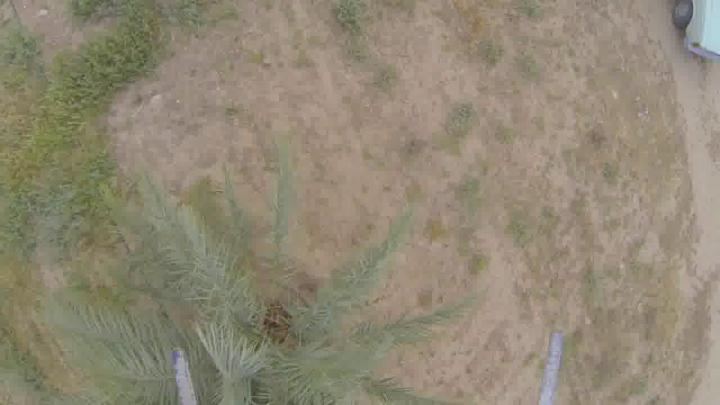Date-Palm-Crown: (132, 261, 354, 405)
